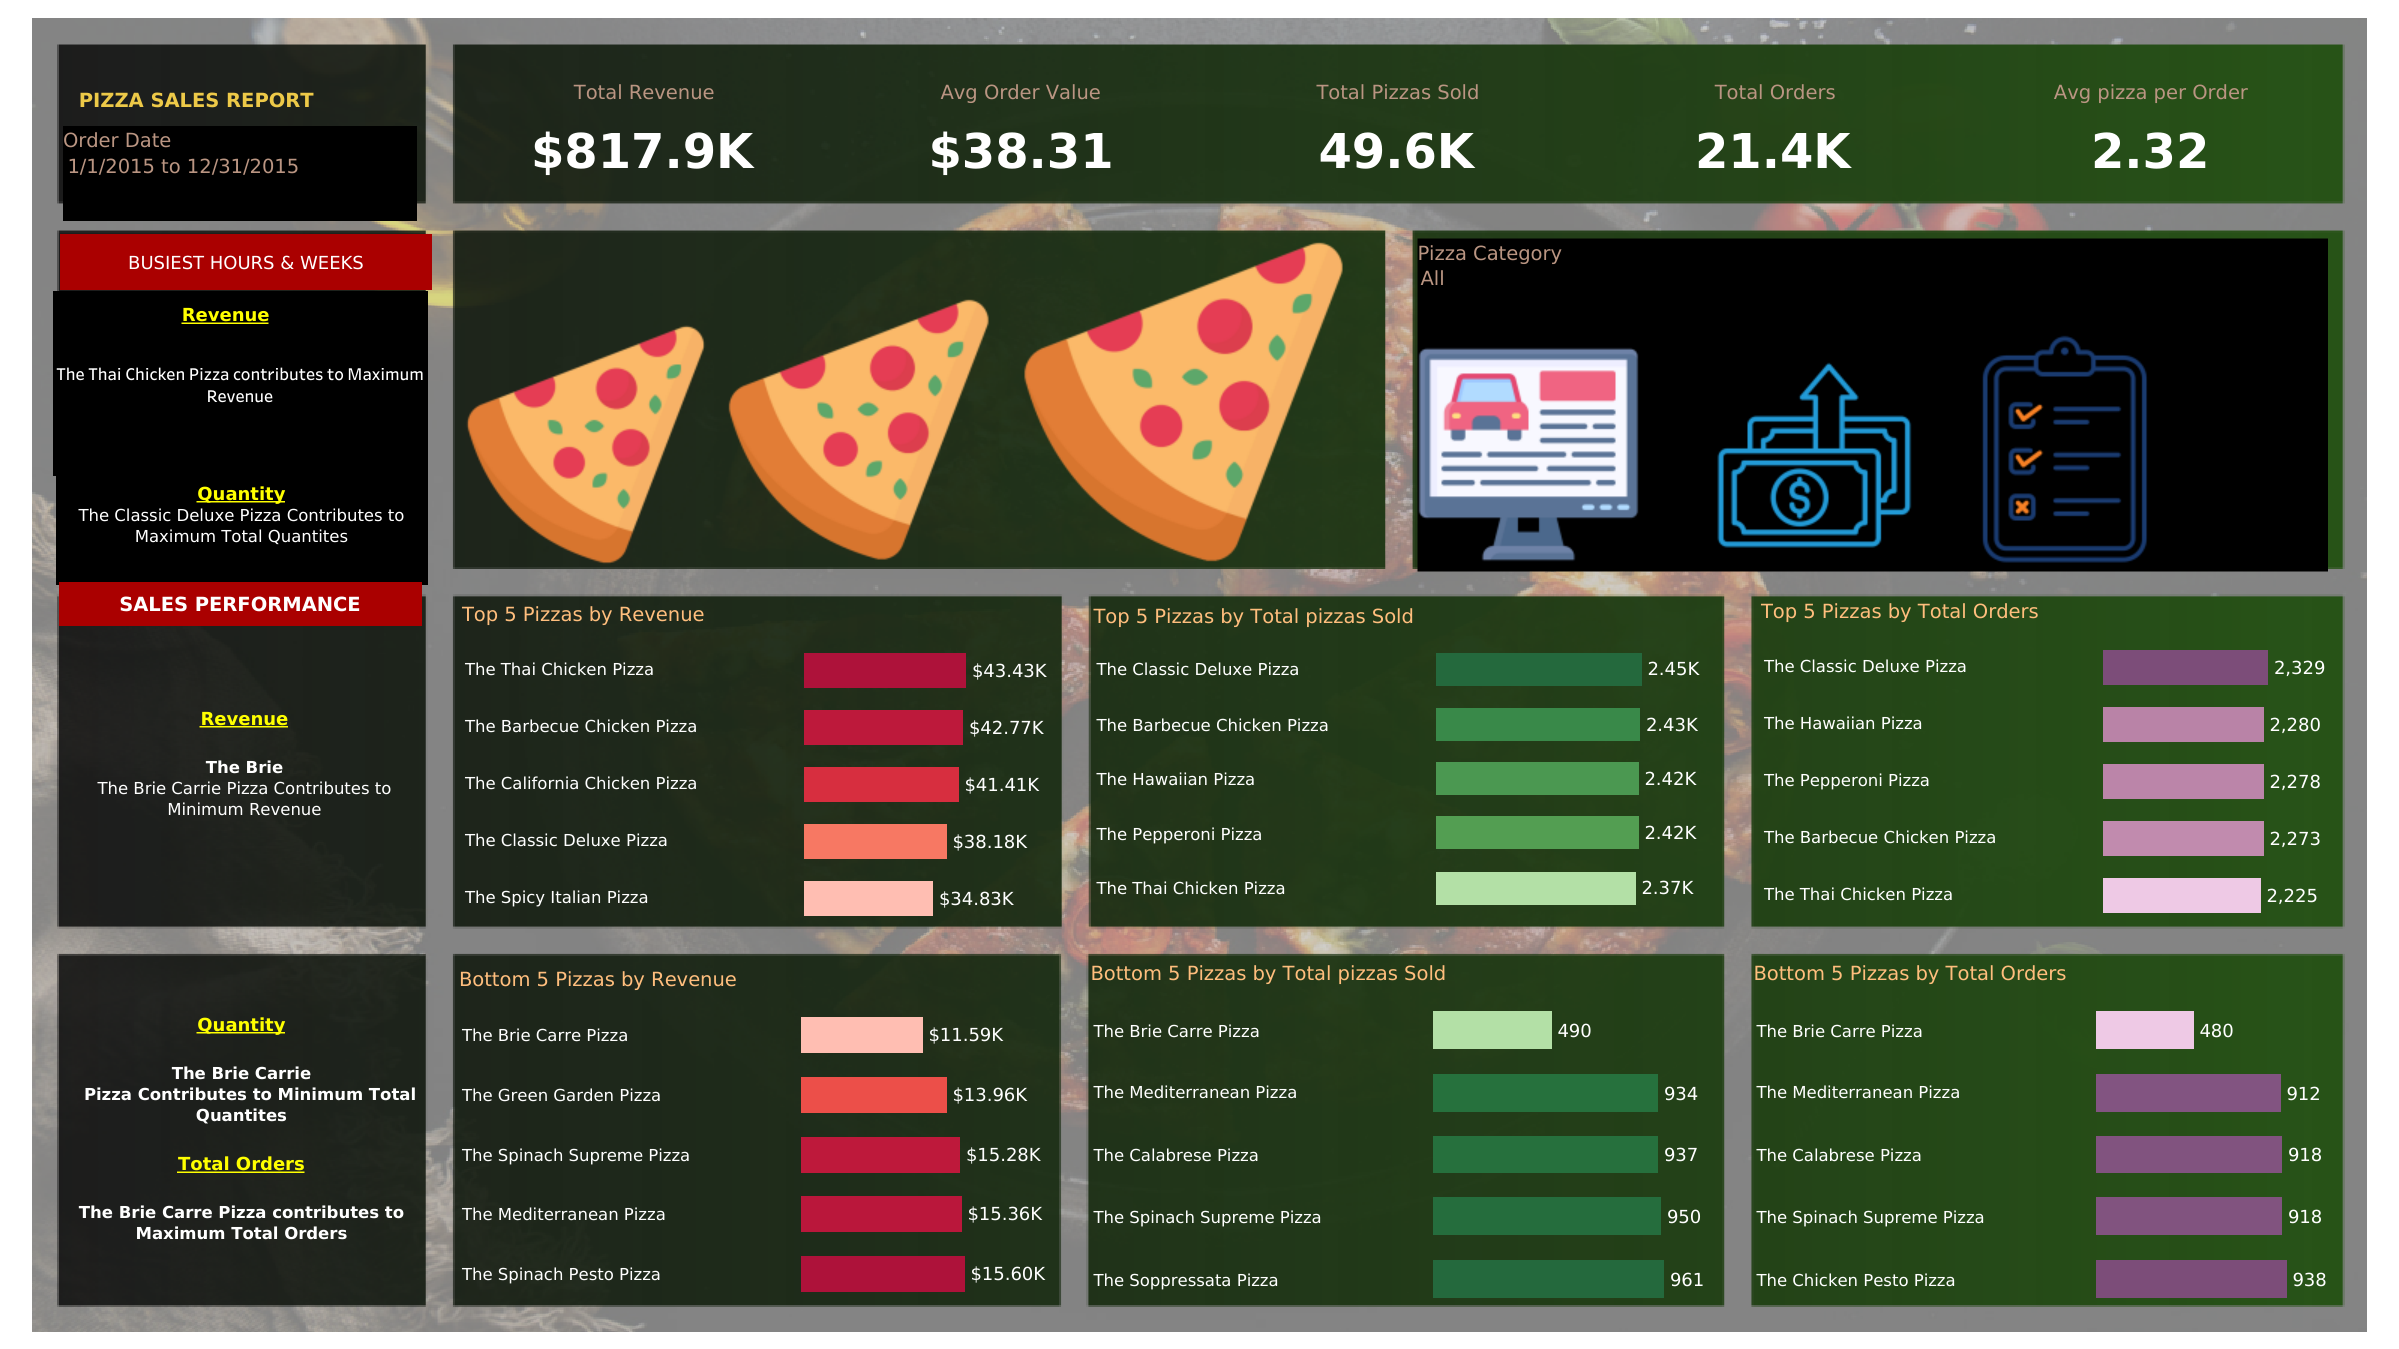

Layout of this report page (visuals, bound fields, positions):
{"tool":"tableau","page":{"name":"Best/Worst Sellers","canvas":[1600,900],"ordinal":0},"visuals":[{"type":"image","param":"Image/Pizza project slide 2.png","box":[8,8,1584,884]},{"type":"worksheet","title":"KPI Banner","mark":"Automatic","box":[304,30,1256,103]},{"type":"text","box":[50,50,223,32]},{"type":"filter","title":"KPI Banner","param":"[federated.0nv92t01vzps6f1b7cb781tuzh13].[none:order_date:qk]","box":[42,84,236,63]},{"type":"text","box":[40,156,248,37]},{"type":"image","param":"Image/pizza-slice.png","box":[678,157,526,222]},{"type":"filter","title":"KPI Banner","param":"[federated.0nv92t01vzps6f1b7cb781tuzh13].[none:pizza_category:nk]","box":[945,159,607,222]},{"type":"text","box":[35,194,250,123]},{"type":"image","param":"Image/pizza-slice.png","box":[482,196,437,181]},{"type":"text","box":[110,198,81,23]},{"type":"image","param":"Image/pizza-slice.png","box":[308,214,617,165]},{"type":"image","param":"Image/monitor.png","box":[944,228,604,150]},{"type":"text","box":[37,294,248,96]},{"type":"text","box":[39,388,242,29]},{"type":"worksheet","title":"Top 5 Pizzas by Total Orders ","mark":"Automatic","rows":["pizza_name"],"cols":["Calculation_66428116803862529"],"box":[1170,393,391,223]},{"type":"worksheet","title":"Top 5 Pizzas by Revenue","mark":"Automatic","rows":["pizza_name"],"cols":["Calculation_66428116803256320"],"box":[304,395,404,222]},{"type":"worksheet","title":"Top 5 Pizzas by Total pizzas Sold","mark":"Automatic","rows":["pizza_name"],"cols":["Calculation_66428116804493315"],"box":[725,396,421,215]},{"type":"text","box":[40,418,246,198]},{"type":"worksheet","title":"Bottom 5 Pizzas by Total pizzas Sold ","mark":"Automatic","rows":["pizza_name"],"cols":["Calculation_66428116804493315"],"box":[723,634,426,240]},{"type":"worksheet","title":"Bottom 5 Pizzas by Total Orders ","mark":"Automatic","rows":["pizza_name"],"cols":["Calculation_66428116803862529"],"box":[1165,634,397,240]},{"type":"text","box":[38,636,246,231]},{"type":"worksheet","title":"Bottom 5 Pizzas by Revenue ","mark":"Automatic","rows":["pizza_name"],"cols":["Calculation_66428116803256320"],"box":[302,638,405,231]}]}

Visuals, with their boxes in screenshot pixels (x1, y1, x2, y2), scaled from the page's 1600x900 canvas onto the 2399x1349 screenshot:
image: BBox(12, 12, 2387, 1337)
"KPI Banner" worksheet: BBox(456, 45, 2339, 199)
text: BBox(75, 75, 409, 123)
"KPI Banner" filter: BBox(63, 126, 417, 220)
text: BBox(60, 234, 432, 289)
image: BBox(1017, 235, 1805, 568)
"KPI Banner" filter: BBox(1417, 238, 2327, 571)
text: BBox(52, 291, 427, 475)
image: BBox(723, 294, 1378, 565)
text: BBox(165, 297, 286, 331)
image: BBox(462, 321, 1387, 568)
image: BBox(1415, 342, 2321, 567)
text: BBox(55, 441, 427, 585)
text: BBox(58, 582, 421, 625)
"Top 5 Pizzas by Total Orders " worksheet: BBox(1754, 589, 2341, 923)
"Top 5 Pizzas by Revenue" worksheet: BBox(456, 592, 1062, 925)
"Top 5 Pizzas by Total pizzas Sold" worksheet: BBox(1087, 594, 1718, 916)
text: BBox(60, 627, 429, 923)
"Bottom 5 Pizzas by Total pizzas Sold " worksheet: BBox(1084, 950, 1723, 1310)
"Bottom 5 Pizzas by Total Orders " worksheet: BBox(1747, 950, 2342, 1310)
text: BBox(57, 953, 426, 1300)
"Bottom 5 Pizzas by Revenue " worksheet: BBox(453, 956, 1060, 1303)
